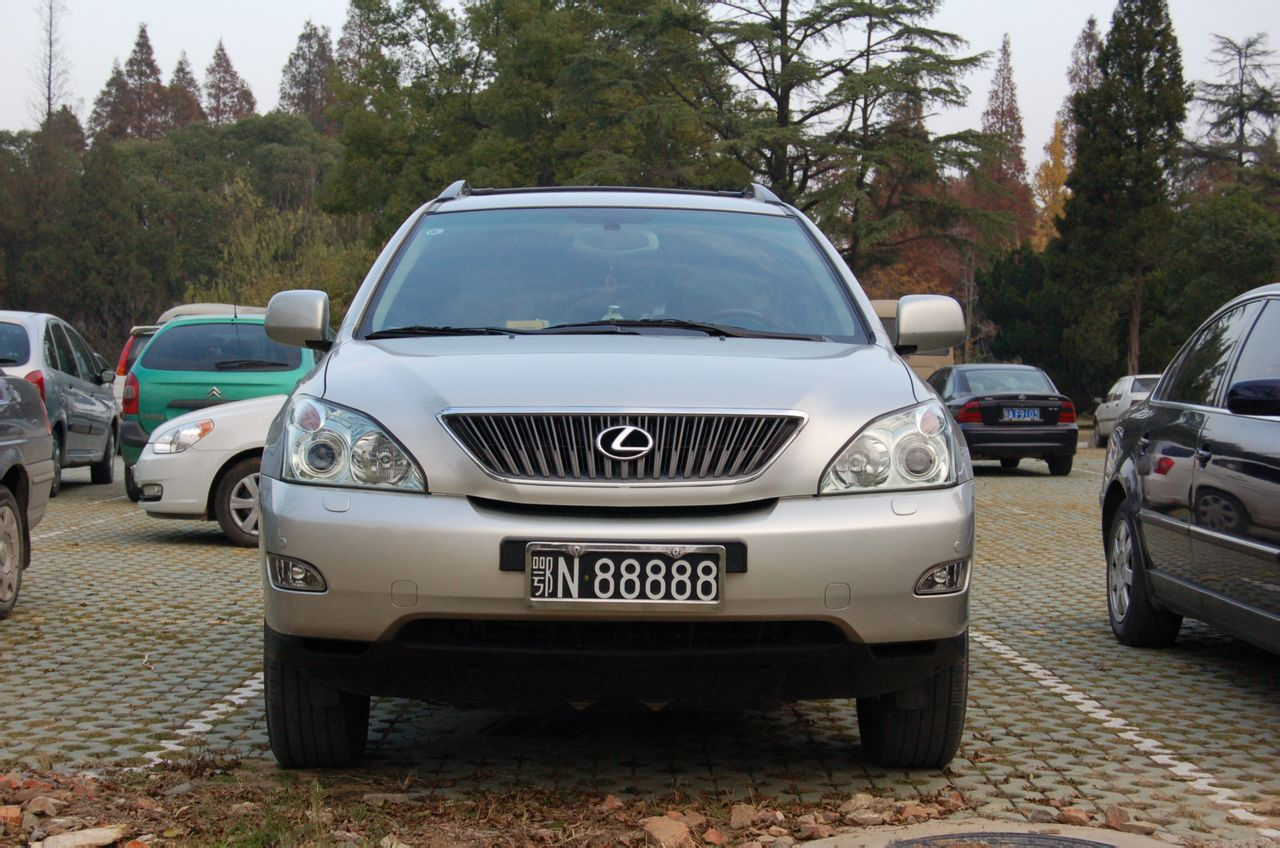plate_number: (524, 541, 728, 611), (1001, 401, 1043, 424)
